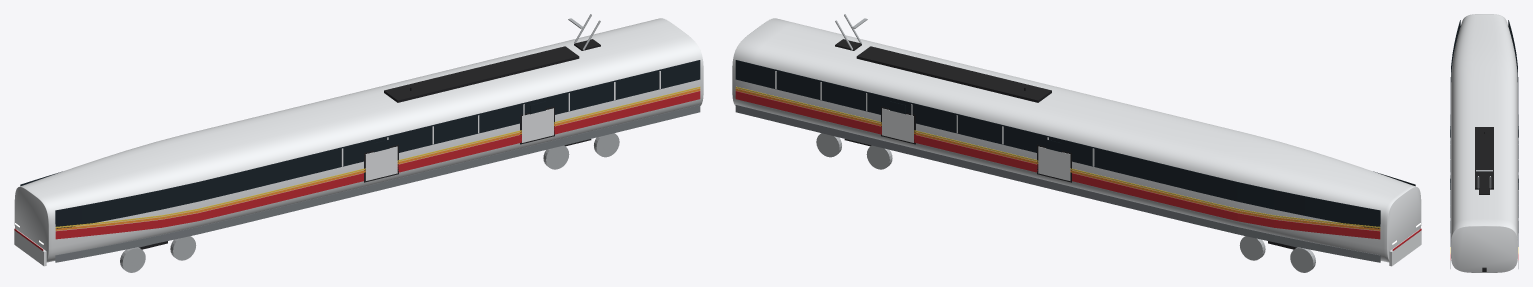
File: cr400af-bs-headcar-v017.glb
The picture shows the model from 3 angles, left to right: view 1: azimuth 30°, elevation 25°; view 2: azimuth 150°, elevation 25°; view 3: azimuth 270°, elevation 25°; orthographic projection. The views are drawn at different scales.
Parts seen in each view (by area): view 1: GEO-headcar_body, GEO-window_band_-1, GEO-skirt_-1, GEO-swoosh_red_-1, GEO-roof_fairing, GEO-swoosh_orange_-1, GEO-swoosh_gold_-1, GEO-door_-1_-0.6, GEO-door_-1_5.6, GEO-front_bumper, GEO-wheel_-8.4_-9.4_-1, GEO-wheel_-8.4_-7.4_-1 (+2 smaller); view 2: GEO-headcar_body, GEO-window_band_1, GEO-skirt_1, GEO-swoosh_red_1, GEO-roof_fairing, GEO-swoosh_orange_1, GEO-swoosh_gold_1, GEO-door_1_-0.6, GEO-door_1_5.6, GEO-front_bumper, GEO-wheel_-8.4_-9.4_1, GEO-wheel_-8.4_-7.4_1 (+2 smaller); view 3: GEO-headcar_body, GEO-roof_fairing, GEO-window_band_-1, GEO-window_band_1, GEO-pantograph_base.
Part boxes in pixels (x1=…): GEO-headcar_body: x1=14, y1=18, x2=703, y2=262; GEO-window_band_-1: x1=55, y1=60, x2=700, y2=228; GEO-skirt_-1: x1=55, y1=104, x2=700, y2=262; GEO-swoosh_red_-1: x1=55, y1=91, x2=700, y2=239; GEO-roof_fairing: x1=384, y1=46, x2=579, y2=102; GEO-swoosh_orange_-1: x1=55, y1=88, x2=700, y2=230; GEO-swoosh_gold_-1: x1=55, y1=86, x2=700, y2=228; GEO-door_-1_-0.6: x1=365, y1=146, x2=397, y2=180; GEO-door_-1_5.6: x1=522, y1=108, x2=553, y2=142; GEO-front_bumper: x1=14, y1=230, x2=46, y2=266; GEO-wheel_-8.4_-9.4_-1: x1=120, y1=247, x2=145, y2=272; GEO-wheel_-8.4_-7.4_-1: x1=170, y1=236, x2=196, y2=260; GEO-headcar_body: x1=732, y1=18, x2=1421, y2=262; GEO-window_band_1: x1=735, y1=60, x2=1380, y2=228; GEO-skirt_1: x1=735, y1=104, x2=1380, y2=262; GEO-swoosh_red_1: x1=735, y1=91, x2=1380, y2=239; GEO-roof_fairing: x1=856, y1=46, x2=1051, y2=102; GEO-swoosh_orange_1: x1=735, y1=88, x2=1380, y2=230; GEO-swoosh_gold_1: x1=735, y1=86, x2=1380, y2=228; GEO-door_1_-0.6: x1=1038, y1=146, x2=1070, y2=180; GEO-door_1_5.6: x1=882, y1=108, x2=913, y2=142; GEO-front_bumper: x1=1389, y1=230, x2=1421, y2=266; GEO-wheel_-8.4_-9.4_1: x1=1290, y1=247, x2=1315, y2=272; GEO-wheel_-8.4_-7.4_1: x1=1239, y1=236, x2=1265, y2=260; GEO-headcar_body: x1=1451, y1=14, x2=1517, y2=272; GEO-roof_fairing: x1=1475, y1=127, x2=1493, y2=189; GEO-window_band_-1: x1=1450, y1=20, x2=1460, y2=246; GEO-window_band_1: x1=1508, y1=20, x2=1518, y2=246; GEO-pantograph_base: x1=1479, y1=187, x2=1489, y2=194.
Bounding box in the file's own units: 25.96 × 4.84 × 3.44.
